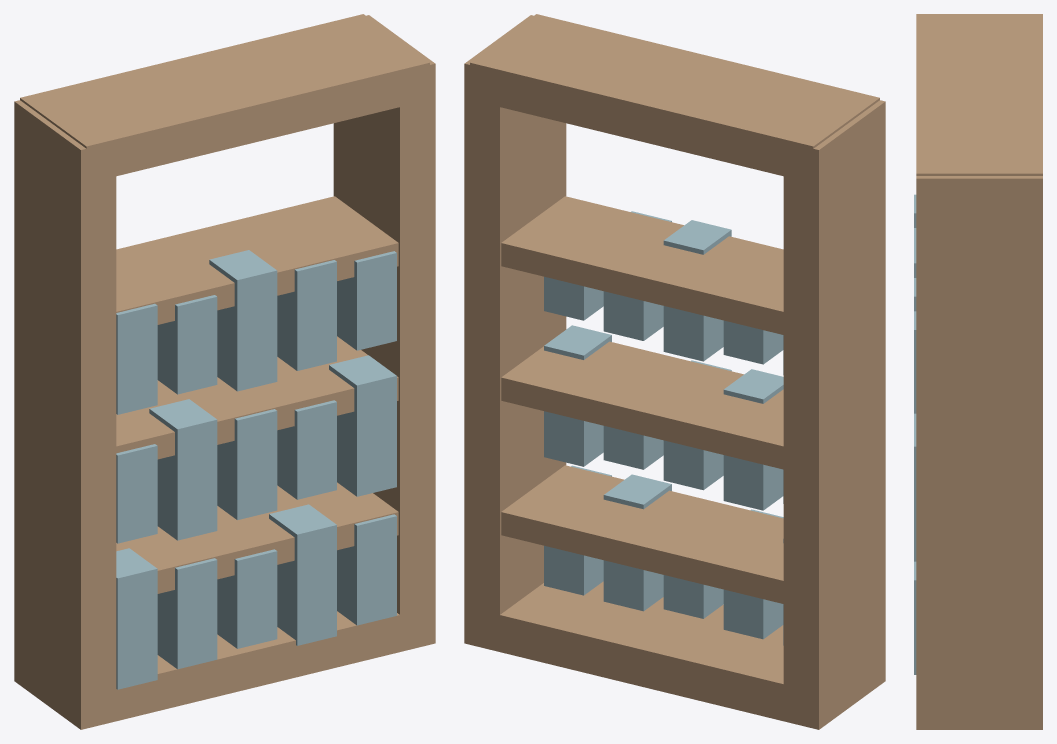
File: bookcase.glb
3 views of the same model, side by side, from view 1: azimuth 30°, elevation 25°; view 2: azimuth 150°, elevation 25°; view 3: azimuth 270°, elevation 25° (orthographic). The views are drawn at different scales.
Parts seen in each view (by area): view 1: case-left, case-top, case-right, shelf-2, case-bottom, shelf-0, shelf-1, book-12, book-6, book-9, book-3, book-7 (+10 smaller); view 2: case-left, case-right, case-top, case-bottom, shelf-0, shelf-2, shelf-1, book-12, book-9, book-6, book-3, book-13 (+7 smaller); view 3: case-right, case-top, book-9, book-4, book-14.
Part boxes in pixels (x1,y1,x2,y2): case-left: (14, 100, 116, 729); case-top: (20, 14, 429, 182); case-right: (333, 15, 435, 651); shelf-2: (116, 196, 398, 324); case-bottom: (86, 608, 429, 721); shelf-0: (116, 482, 398, 593); shelf-1: (116, 336, 398, 459); book-12: (209, 250, 277, 391); book-6: (149, 399, 217, 540); book-9: (329, 355, 396, 496); book-3: (269, 504, 336, 645); book-7: (217, 409, 277, 520); case-left: (783, 100, 885, 729); case-right: (464, 15, 566, 651); case-top: (470, 14, 879, 182); case-bottom: (470, 581, 813, 722); shelf-0: (501, 465, 783, 603); shelf-2: (501, 196, 783, 334); shelf-1: (501, 341, 783, 469); book-12: (663, 220, 731, 361); book-9: (544, 325, 611, 466); book-6: (723, 369, 783, 510); book-3: (603, 474, 671, 611); book-13: (603, 211, 671, 340); case-right: (916, 176, 1042, 729); case-top: (916, 14, 1042, 175); book-9: (914, 428, 916, 552); book-4: (914, 561, 916, 674); book-14: (914, 311, 916, 413).
Bounding box in the file's own units: 1.6 × 2.51 × 0.53.
